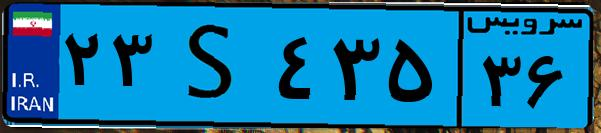2: (57, 26, 110, 100)
3: (330, 28, 385, 110), (475, 38, 525, 113), (110, 28, 158, 98)
4: (270, 28, 330, 110)
5: (385, 28, 445, 110)
6: (525, 38, 570, 115)
S: (158, 12, 270, 120)
